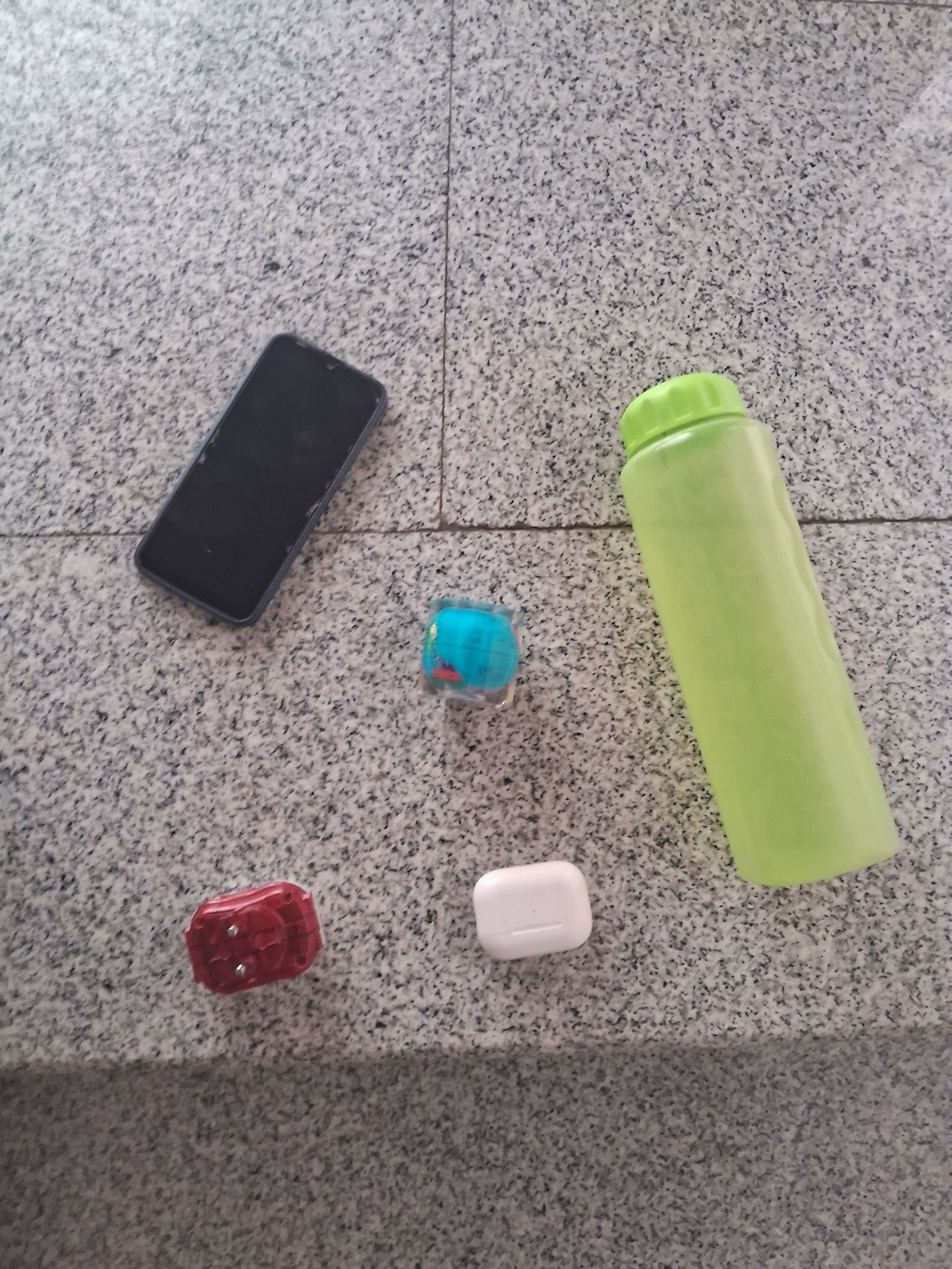Air_pod: (468, 855, 596, 964)
Multi_adapter: (181, 877, 337, 999)
Smart_phone: (126, 329, 393, 633)
Water_bottle: (615, 369, 909, 891)
world_globe: (418, 592, 531, 717)
